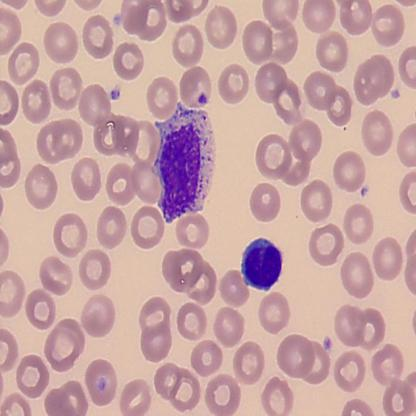Myelocyte: (154, 99, 214, 226)
